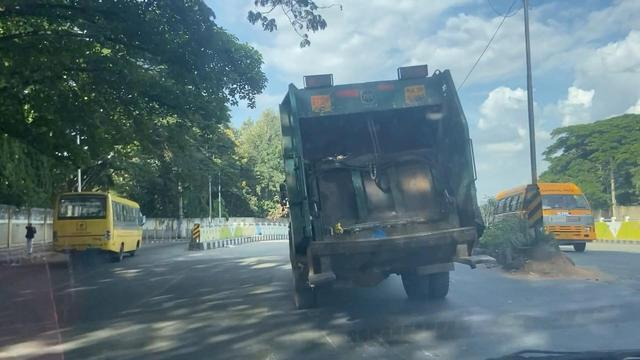HMV: (284, 61, 469, 295), (53, 195, 138, 267)
